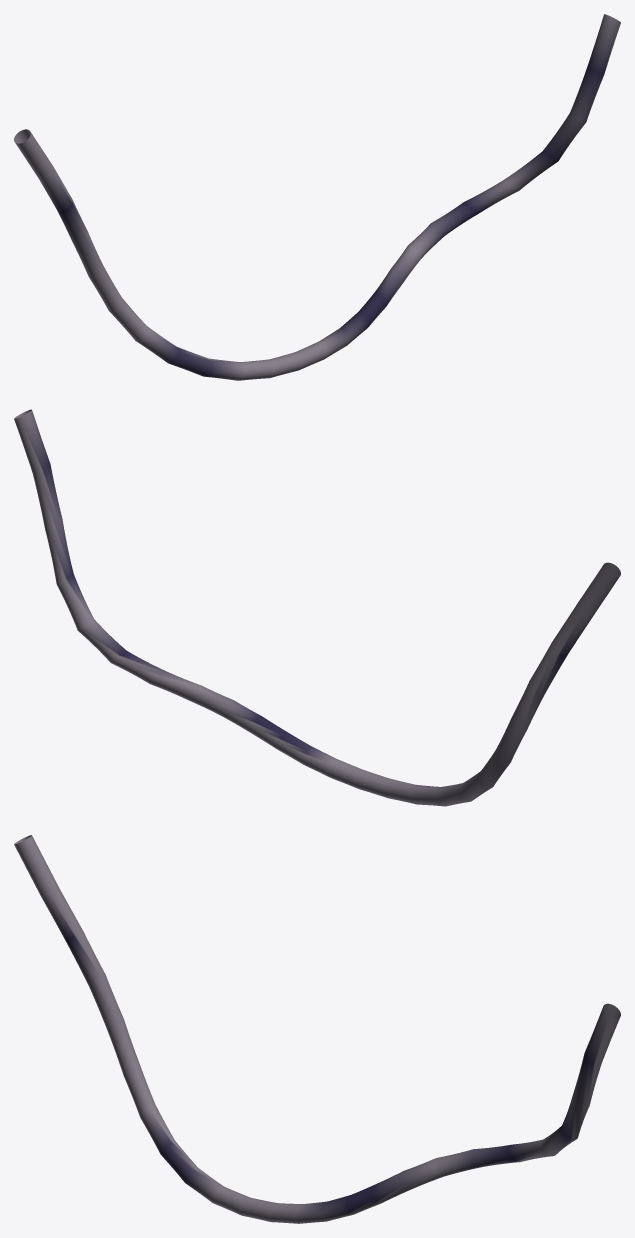
Rendered from caternarytwistcable1.fbx.
The picture shows the model from 3 angles, top to bottom: view 1: azimuth 30°, elevation 25°; view 2: azimuth 150°, elevation 25°; view 3: azimuth 330°, elevation 25°; orthographic projection. The views are drawn at different scales.
Parts seen in each view (by area): view 1: Catenary.002; view 2: Catenary.002; view 3: Catenary.002.
Part boxes in pixels (x1=…): Catenary.002: x1=14, y1=14, x2=620, y2=380; Catenary.002: x1=14, y1=409, x2=620, y2=806; Catenary.002: x1=14, y1=835, x2=620, y2=1223.
Bounding box in the file's own units: 648 × 304 × 68.97.
